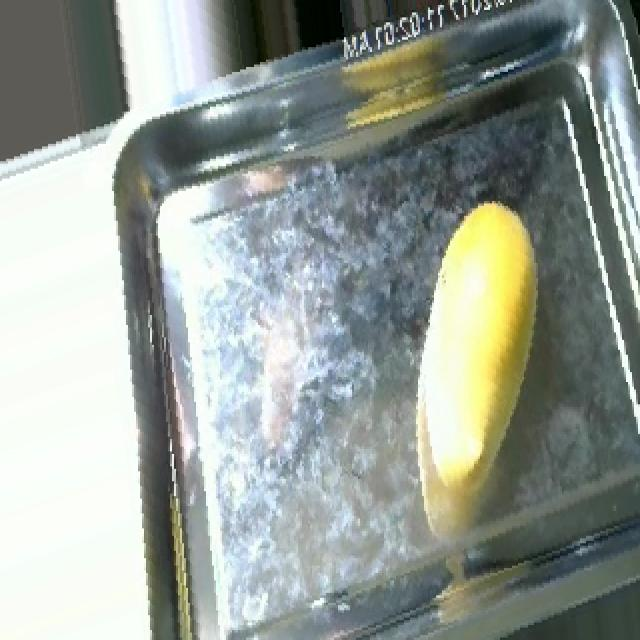fruit: (370, 176, 600, 514)
